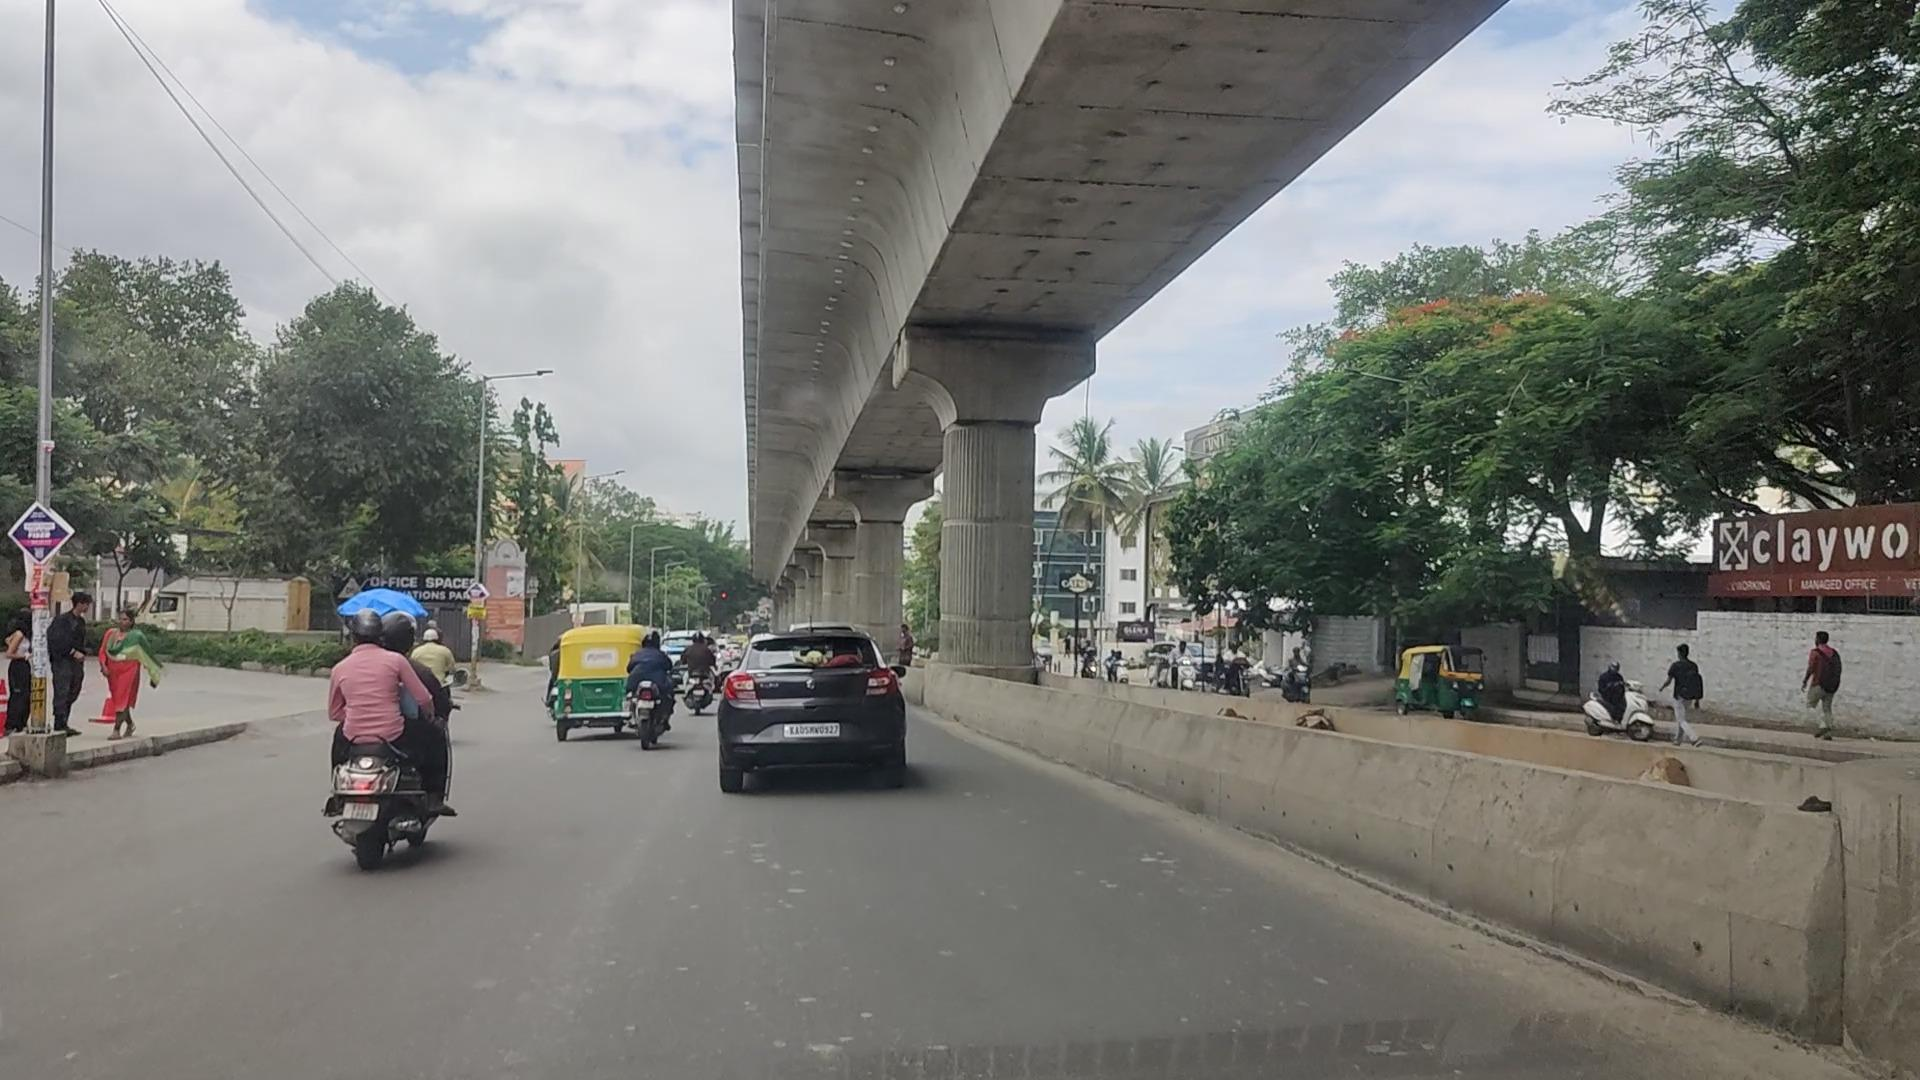LMV: (316, 584, 435, 884), (699, 621, 895, 798), (554, 625, 638, 742), (625, 622, 667, 746)
